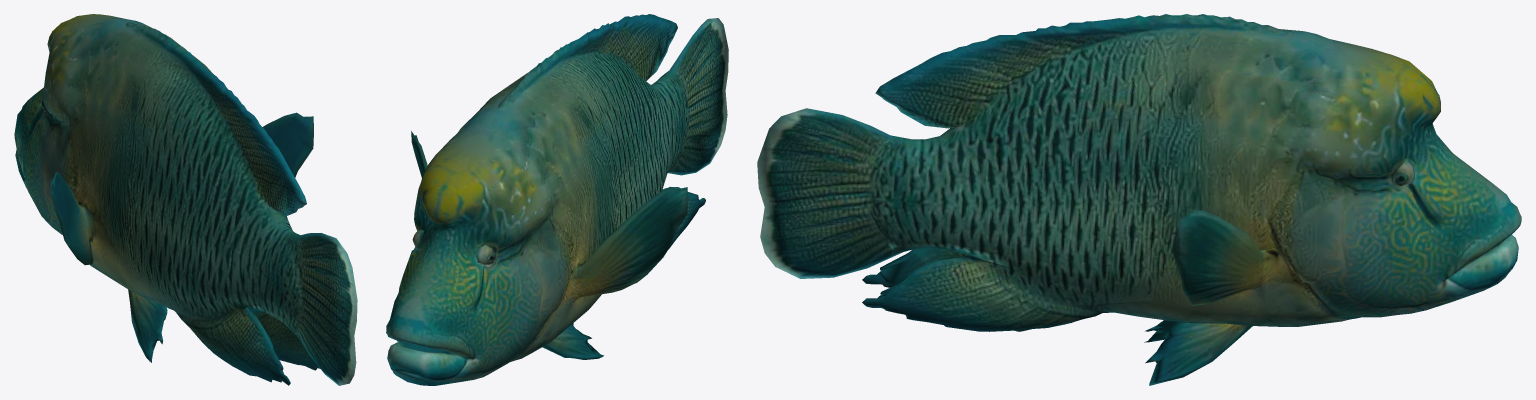
File: napoleon.glb
3 views of the same model, side by side, from view 1: azimuth 30°, elevation 25°; view 2: azimuth 150°, elevation 25°; view 3: azimuth 270°, elevation 25° (orthographic). The views are drawn at different scales.
Visible parts, largest first — view 1: tripo_node_6982b113-43d2-4a8b-91e5-d47e8ac34345; view 2: tripo_node_6982b113-43d2-4a8b-91e5-d47e8ac34345; view 3: tripo_node_6982b113-43d2-4a8b-91e5-d47e8ac34345.
Part boxes in pixels (x1,y1,x2,y2): tripo_node_6982b113-43d2-4a8b-91e5-d47e8ac34345: [14, 14, 357, 385]; tripo_node_6982b113-43d2-4a8b-91e5-d47e8ac34345: [386, 14, 728, 385]; tripo_node_6982b113-43d2-4a8b-91e5-d47e8ac34345: [757, 14, 1521, 385].
Bounding box in the file's own units: 0.4691 × 0.5 × 0.9865.
Materials: 1 (1 with a texture image).
